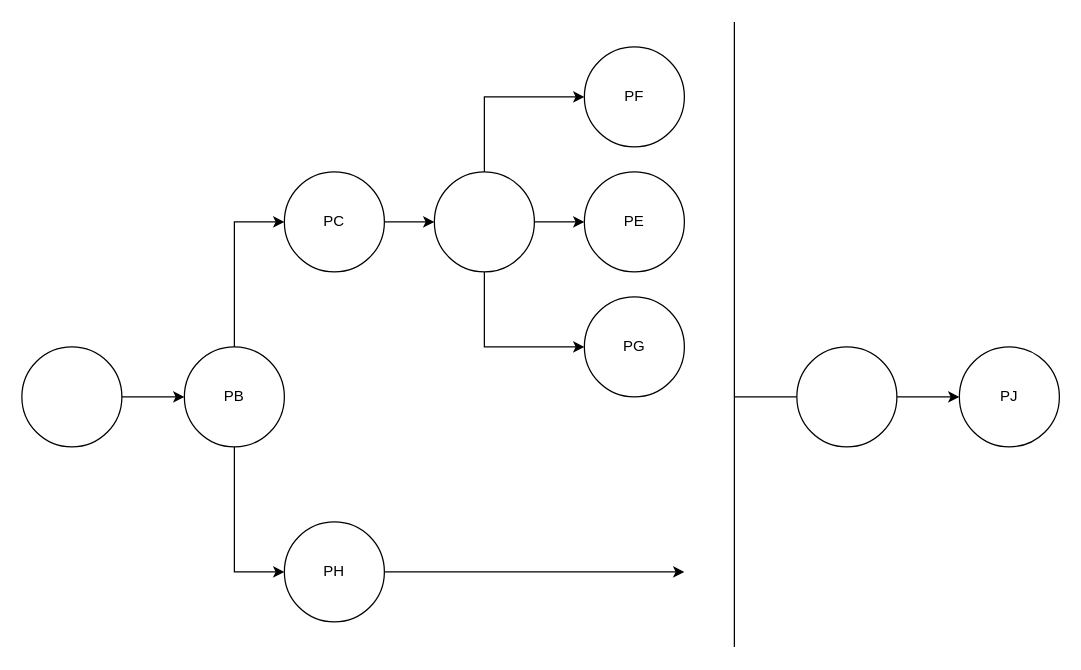
Some shapes in this 1081 by 670 pixel diagram are drawn without their labels. The box of each missing label's shape, as (x1, y1, x2, y2) in pixels:
PA: (21, 346, 122, 447)
PD: (433, 171, 534, 272)
PI: (796, 346, 897, 447)
